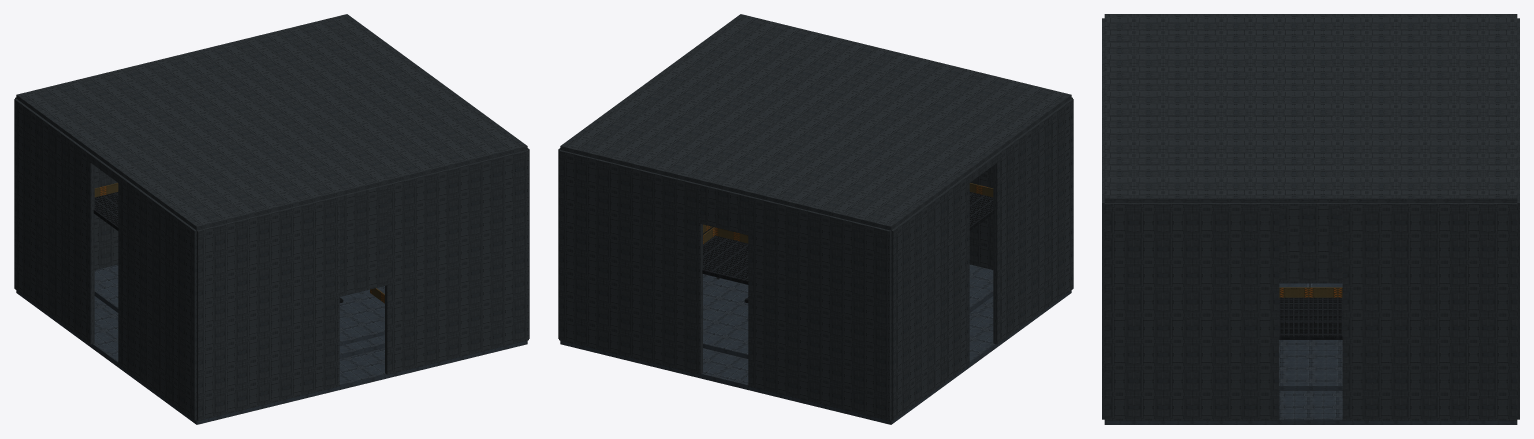
Rendered from rdx_factory_corkscrew_exchange.glb.
The picture shows the model from 3 angles, left to right: view 1: azimuth 30°, elevation 25°; view 2: azimuth 150°, elevation 25°; view 3: azimuth 270°, elevation 25°; orthographic projection. The views are drawn at different scales.
Visible parts, largest first — view 1: SHELL_CEILING, SHELL_WALL_SOUTH_0_LEFT, SHELL_WALL_SOUTH_RIGHT, SHELL_WALL_WEST_0_LEFT, SHELL_WALL_WEST_RIGHT, SHELL_FLOOR_BOTTOM, SHELL_DOOR_HEADER_SOUTH_0, WALK_ENTRY_APRON, SHELL_WALL_NORTH_0_LEFT, WALK_LOWER_CATCHMENT, WALK_WEST_TOP_LEDGE; view 2: SHELL_CEILING, SHELL_WALL_NORTH_0_LEFT, SHELL_WALL_NORTH_RIGHT, SHELL_WALL_WEST_RIGHT, SHELL_WALL_WEST_0_LEFT, SHELL_FLOOR_BOTTOM, WALK_LOWER_CATCHMENT, SHELL_DOOR_HEADER_NORTH_0, WALK_NORTH_HIGH_LEDGE, SHELL_WALL_SOUTH_0_LEFT, WALK_WEST_TOP_LEDGE; view 3: SHELL_CEILING, SHELL_WALL_EAST_0_LEFT, SHELL_WALL_EAST_RIGHT, SHELL_DOOR_HEADER_EAST_0, SHELL_FLOOR_BOTTOM, WALK_LOWER_CATCHMENT, WALK_EAST_MID_LEDGE, SHELL_WALL_NORTH_RIGHT, SHELL_WALL_SOUTH_RIGHT, RAIL_WALK_EAST_MID_LEDGE_W.
Boxes of the visible parts, x1,y1,x2,y2 form: SHELL_CEILING: [16, 14, 527, 230]; SHELL_WALL_SOUTH_0_LEFT: [196, 196, 339, 420]; SHELL_WALL_SOUTH_RIGHT: [385, 150, 528, 374]; SHELL_WALL_WEST_0_LEFT: [14, 98, 94, 344]; SHELL_WALL_WEST_RIGHT: [118, 175, 196, 420]; SHELL_FLOOR_BOTTOM: [16, 264, 527, 424]; SHELL_DOOR_HEADER_SOUTH_0: [338, 184, 387, 296]; WALK_ENTRY_APRON: [339, 293, 384, 345]; SHELL_WALL_NORTH_0_LEFT: [15, 97, 118, 269]; WALK_LOWER_CATCHMENT: [94, 284, 384, 358]; WALK_WEST_TOP_LEDGE: [93, 192, 118, 230]; SHELL_CEILING: [560, 14, 1071, 230]; SHELL_WALL_NORTH_0_LEFT: [748, 196, 891, 420]; SHELL_WALL_NORTH_RIGHT: [559, 150, 702, 374]; SHELL_WALL_WEST_RIGHT: [993, 98, 1073, 344]; SHELL_WALL_WEST_0_LEFT: [891, 175, 969, 420]; SHELL_FLOOR_BOTTOM: [560, 264, 1071, 424]; WALK_LOWER_CATCHMENT: [703, 275, 993, 358]; SHELL_DOOR_HEADER_NORTH_0: [700, 184, 749, 235]; WALK_NORTH_HIGH_LEDGE: [702, 235, 748, 284]; SHELL_WALL_SOUTH_0_LEFT: [969, 97, 1072, 269]; WALK_WEST_TOP_LEDGE: [969, 192, 994, 230]; SHELL_CEILING: [1104, 14, 1517, 202]; SHELL_WALL_EAST_0_LEFT: [1342, 203, 1517, 420]; SHELL_WALL_EAST_RIGHT: [1104, 203, 1279, 420]; SHELL_DOOR_HEADER_EAST_0: [1279, 203, 1342, 283]; SHELL_FLOOR_BOTTOM: [1104, 391, 1517, 424]; WALK_LOWER_CATCHMENT: [1279, 340, 1342, 390]; WALK_EAST_MID_LEDGE: [1279, 297, 1342, 339]; SHELL_WALL_NORTH_RIGHT: [1517, 124, 1519, 419]; SHELL_WALL_SOUTH_RIGHT: [1102, 124, 1104, 419]; RAIL_WALK_EAST_MID_LEDGE_W: [1279, 287, 1342, 297].
Bounding box in the file's own units: 36.45 × 20.6 × 34.45.
Materials: 6 (6 with a texture image).
